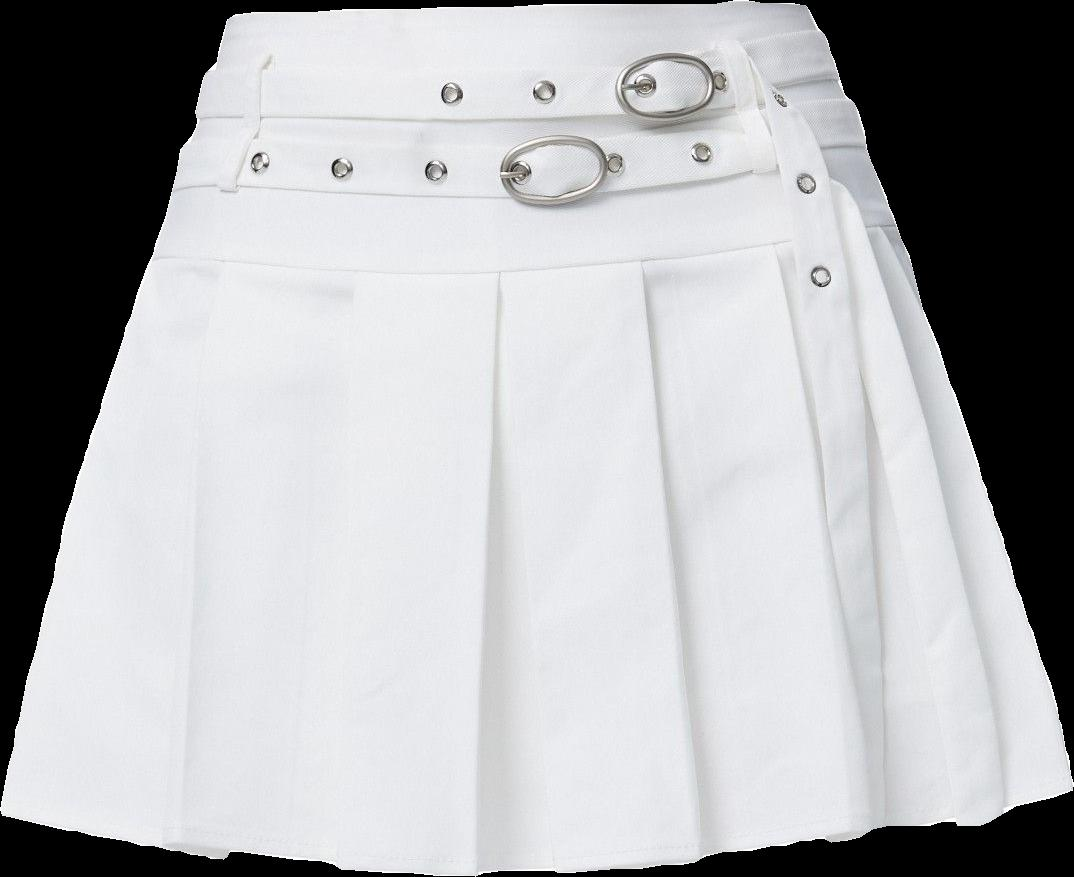Hemline: (0, 782, 1073, 876)
Waistline: (144, 223, 903, 276), (223, 0, 810, 27)
